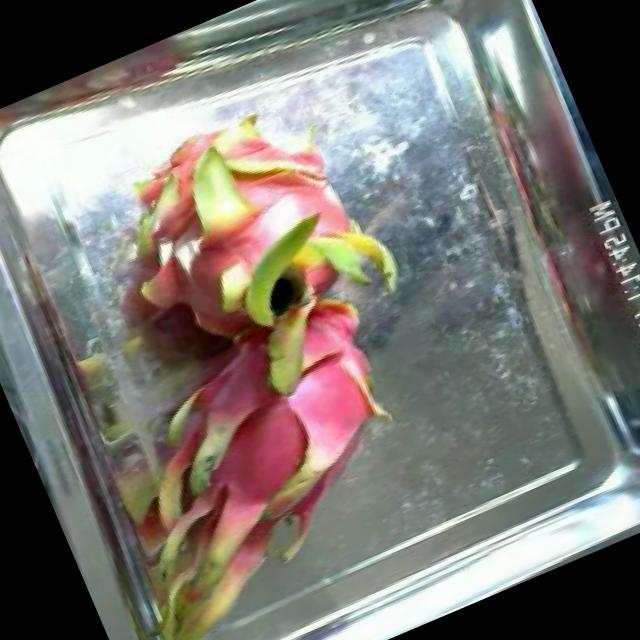Fruit: (116, 164, 232, 274)
